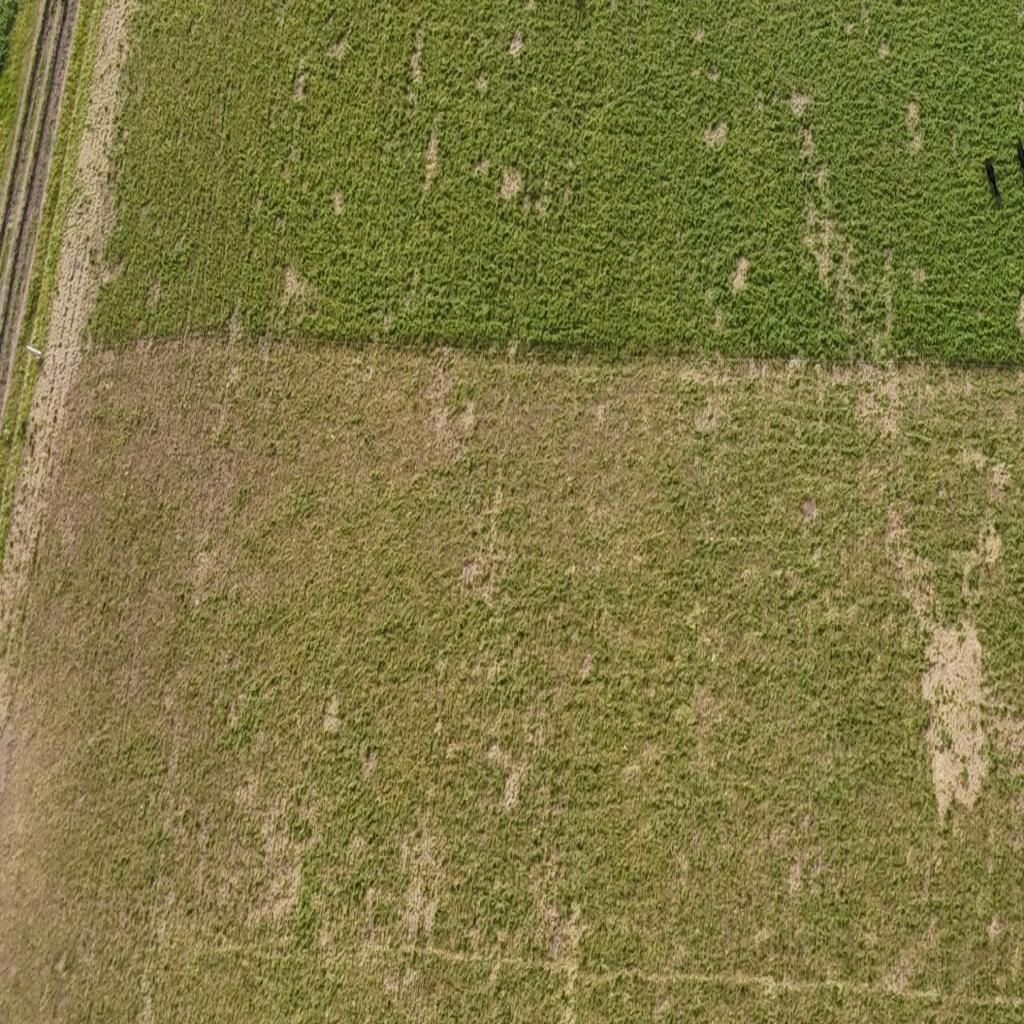cow: (983, 149, 1007, 204), (1007, 138, 1024, 190)
